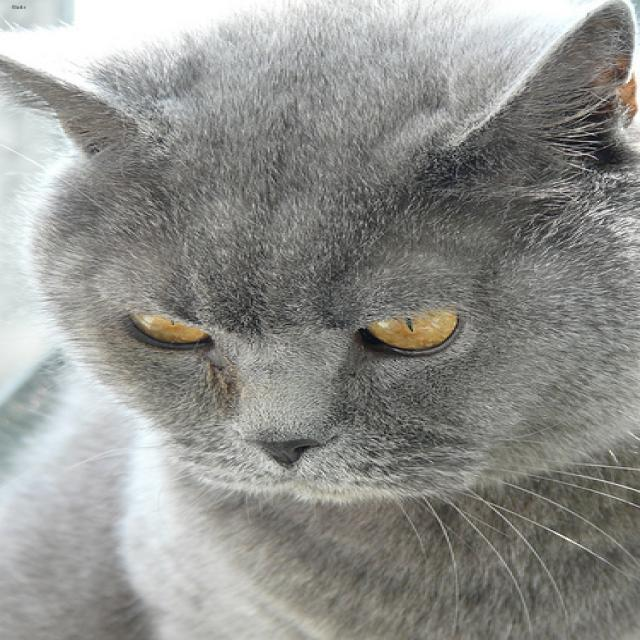British_Shorthair: (0, 0, 636, 500)
